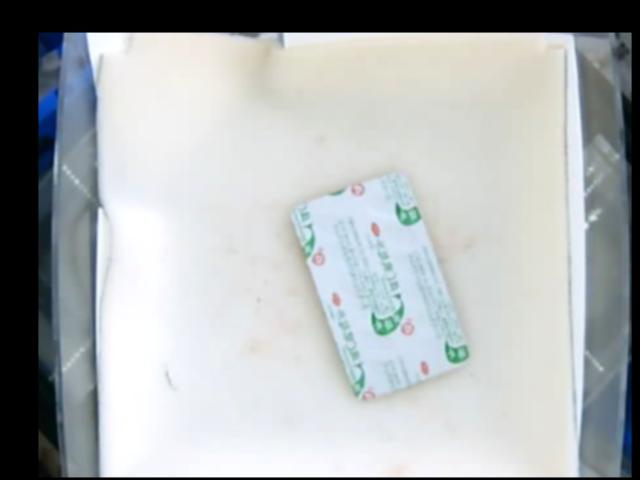Medicine: (291, 170, 471, 398)
